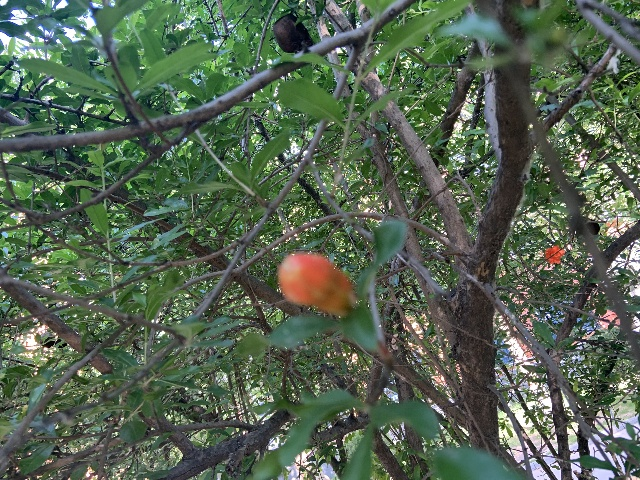bud: (278, 254, 357, 315)
flower: (544, 244, 564, 265)
